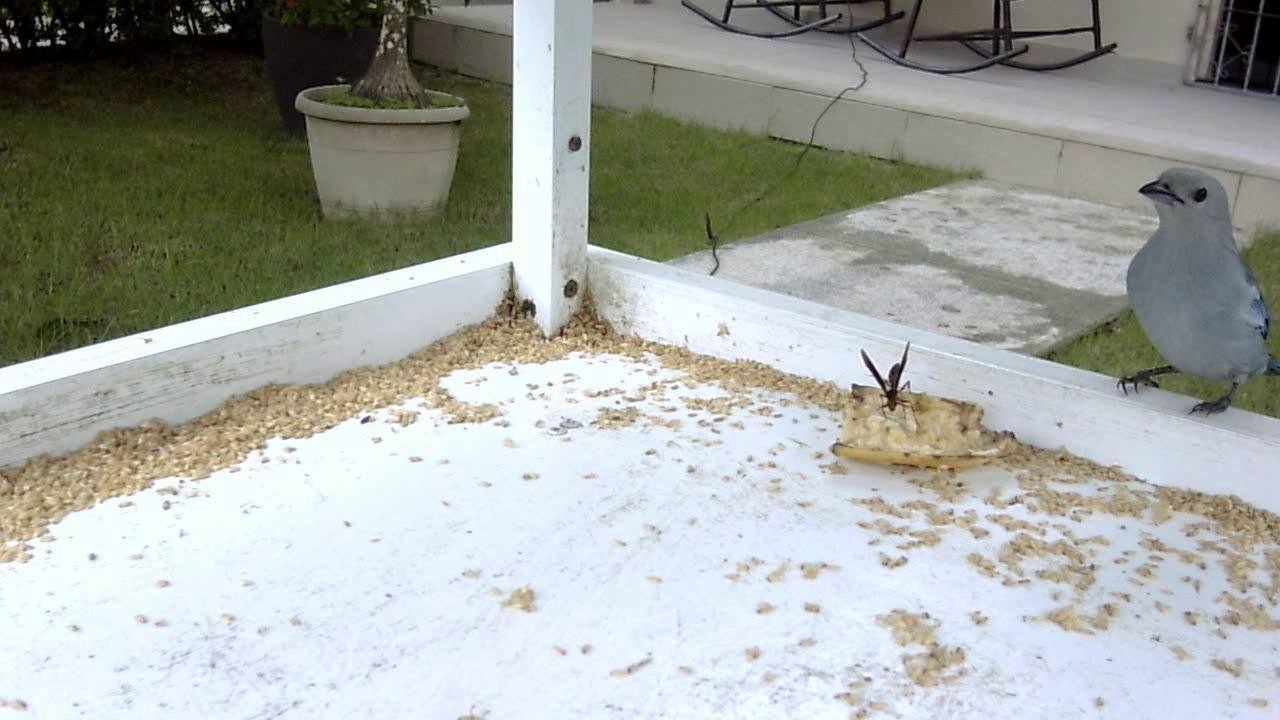sanhaco_da_amazonia: (1108, 165, 1272, 430)
